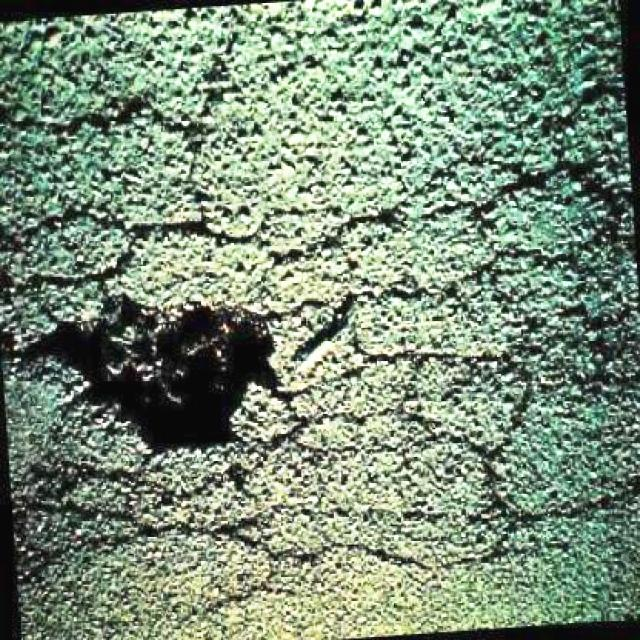pothole: (23, 288, 285, 463)
